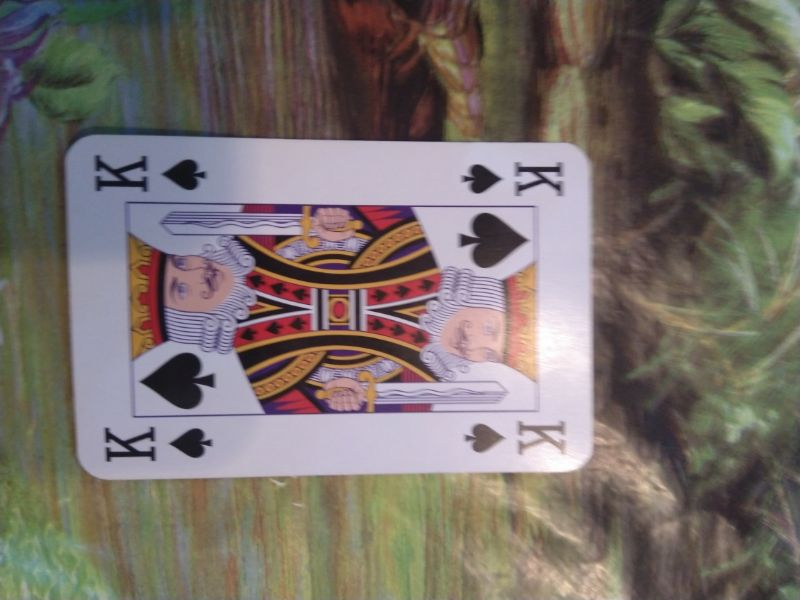Ks: (88, 148, 209, 195), (99, 421, 219, 464), (459, 156, 570, 200), (462, 418, 570, 458)
